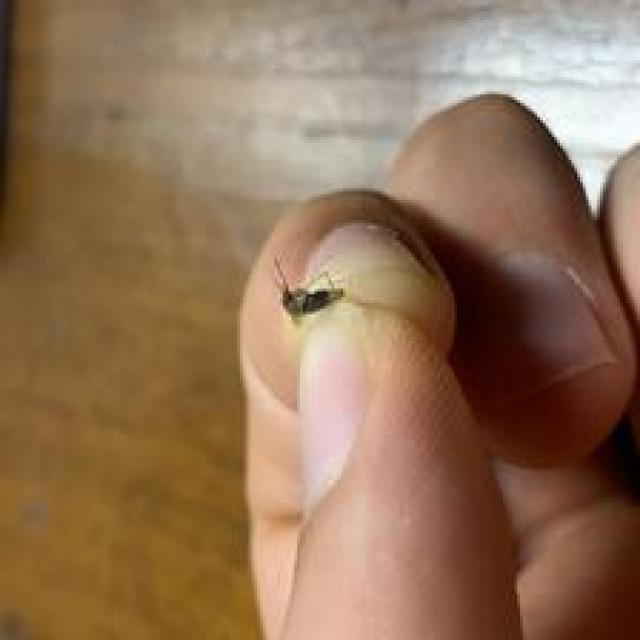Culex: (271, 254, 346, 326)
